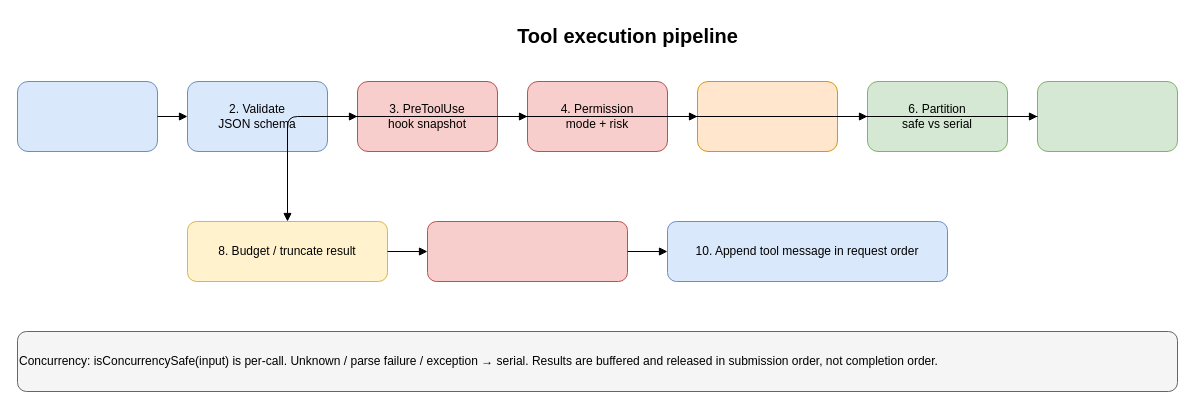
Some shapes in this 1195 by 409 pixel diagram are drawn without their labels. The box of each missing label's shape, as (x1, y1, x2, y2) in pixels:
1. Lookup by name: (16, 80, 158, 152)
5. Ask user? pause loop: (696, 80, 838, 152)
7. Execute fail-closed: (1036, 80, 1178, 152)
9. PostToolUse hook note: (426, 220, 628, 282)
